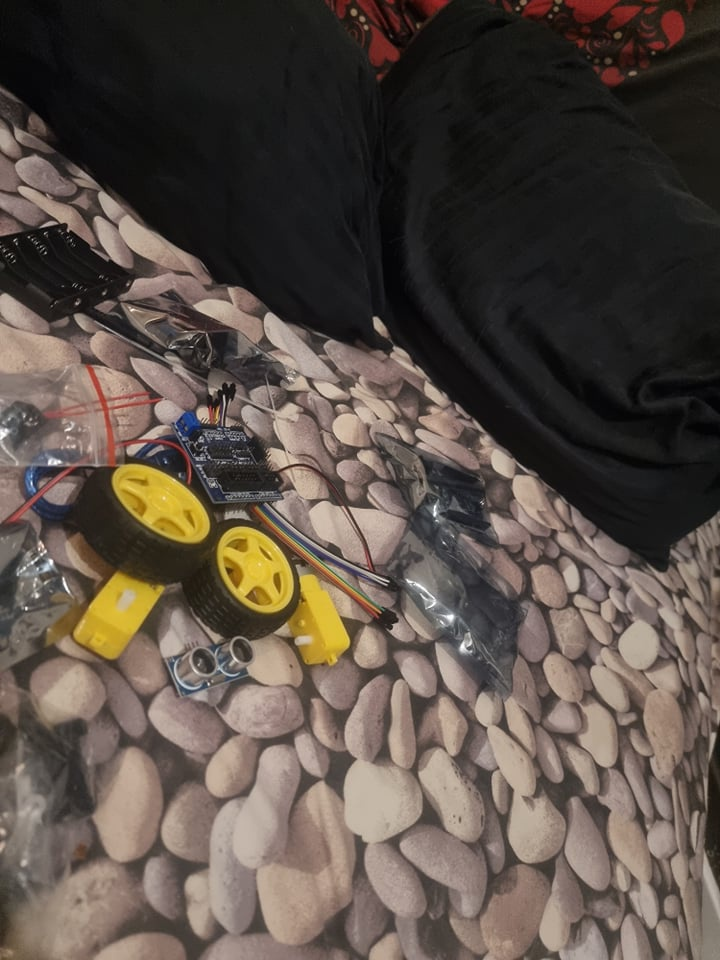5V EXPANSION: (172, 412, 285, 505)
BATTERY BOX: (0, 213, 134, 323)
SENSOR: (164, 636, 256, 692)
